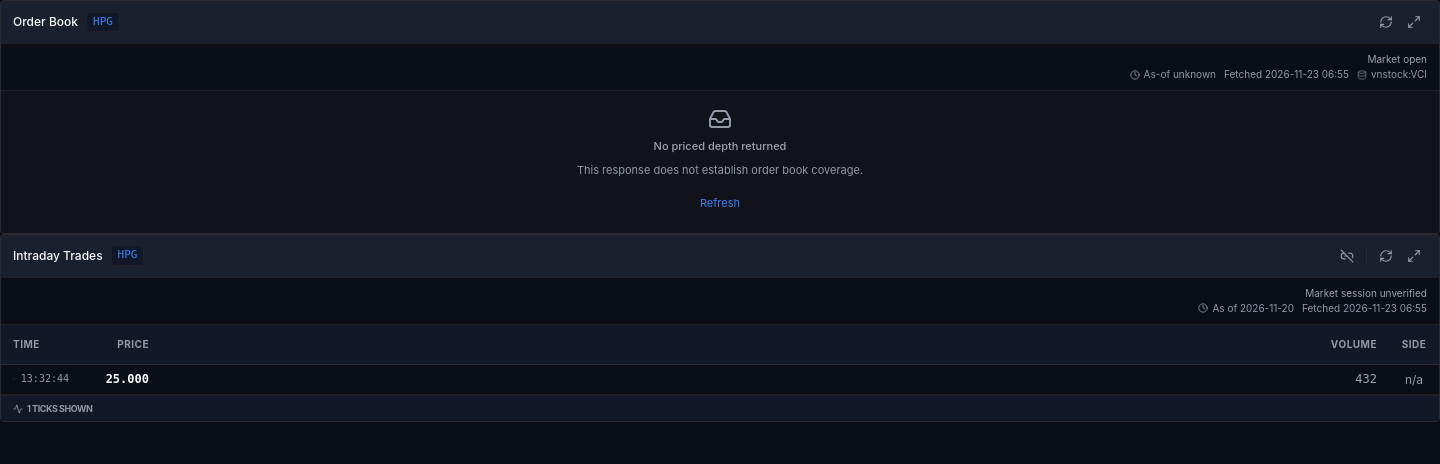
shows the calendar date of a legacy dated print and keeps it after an HTTP 200 timeout
Expected: the text "432" is shown, [1355, 372, 1377, 386]
Click the button titled "Refresh" in the row of "Intraday Trades".
click(1386, 256)  # box [1373, 243, 1399, 269]
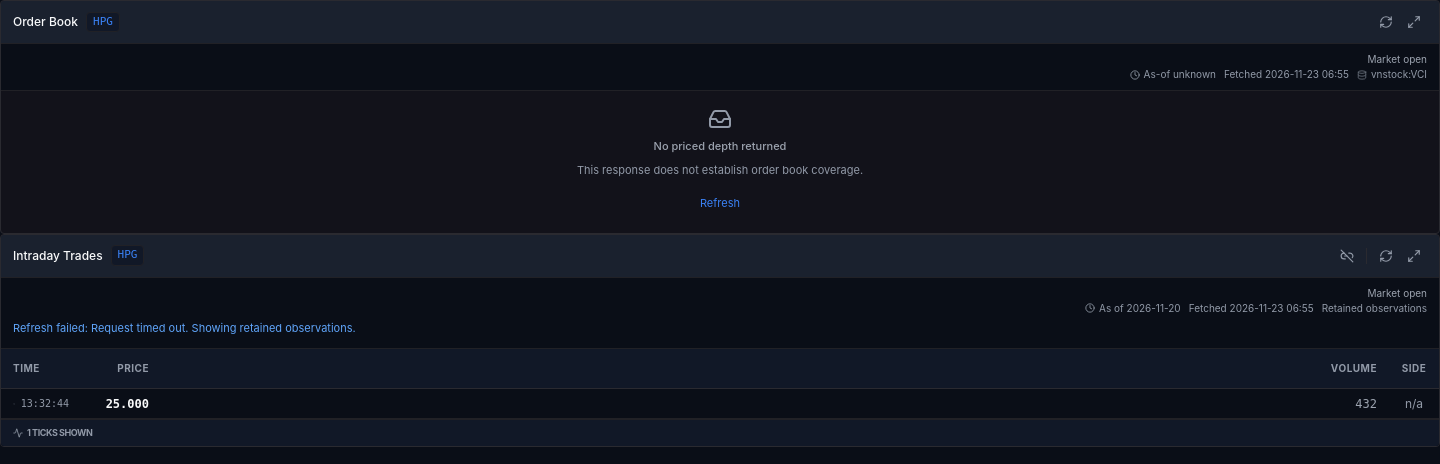
Expected: the text "432" is shown, [1355, 397, 1377, 411]
Expected: the text "Refresh failed: Request timed out. Showing retained observations." is shown, [13, 321, 356, 335]
